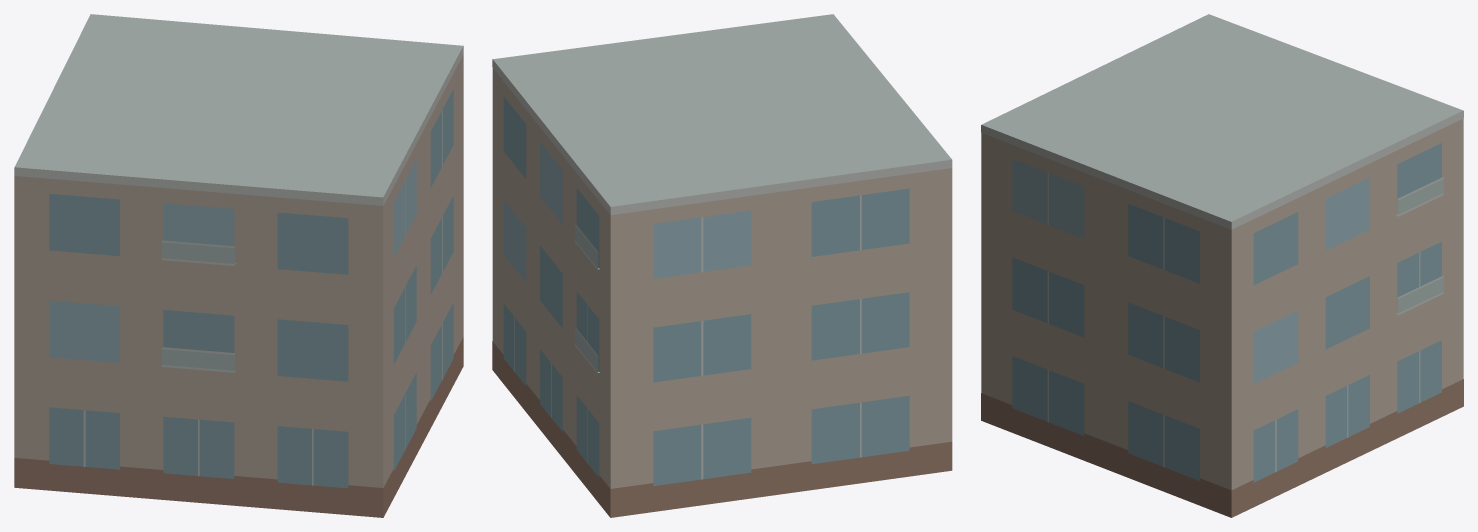
The model's file is survey-upis-33005513.glb.
3 views of the same model, side by side, from view 1: azimuth 30°, elevation 25°; view 2: azimuth 150°, elevation 25°; view 3: azimuth 270°, elevation 25° (orthographic). The views are drawn at different scales.
Visible parts, largest first — view 1: survey-upis-33005513.tmp; view 2: survey-upis-33005513.tmp; view 3: survey-upis-33005513.tmp.
Boxes of the visible parts, x1=… form: survey-upis-33005513.tmp: x1=14, y1=14, x2=463, y2=517; survey-upis-33005513.tmp: x1=492, y1=14, x2=952, y2=517; survey-upis-33005513.tmp: x1=981, y1=14, x2=1463, y2=517.
Size of the model in its own units: 13.8 by 9.15 by 13.53.
